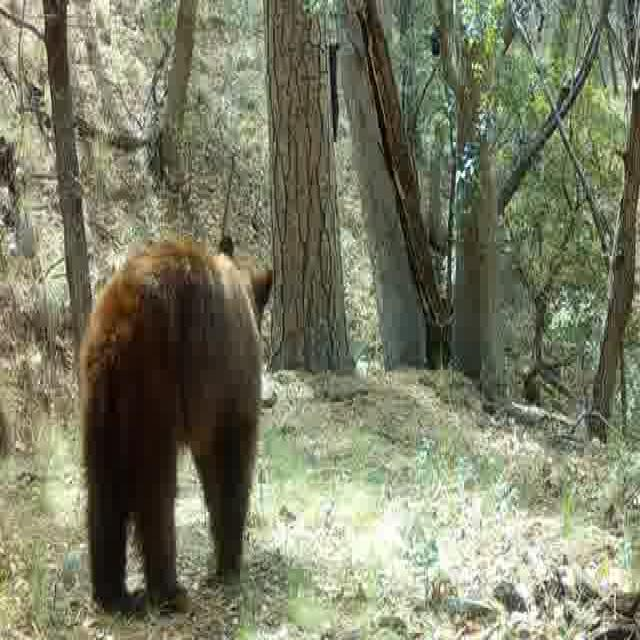bear face: (83, 232, 276, 613)
